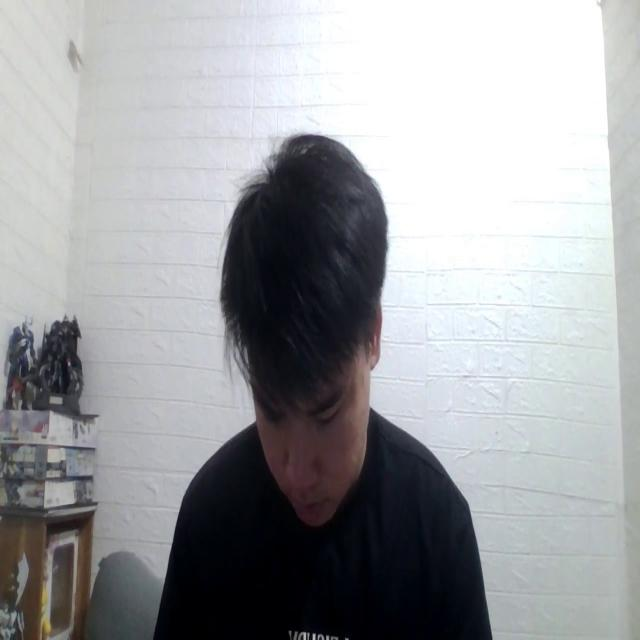student: (138, 128, 493, 640)
